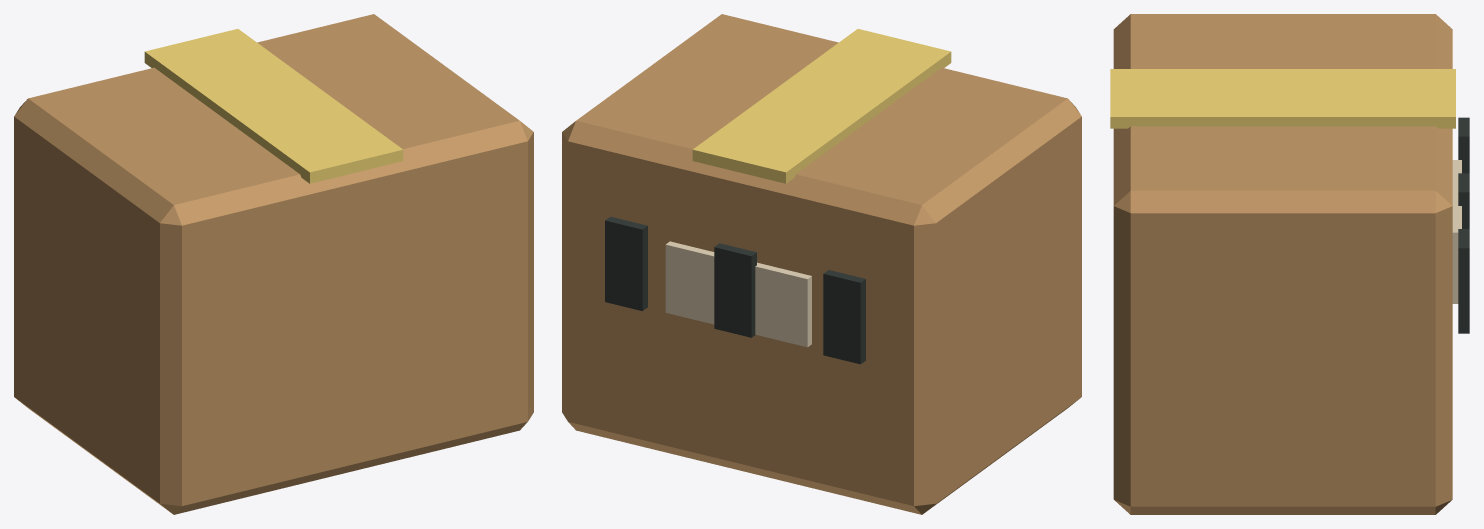
File: sm_cargo_package_vented.glb
3 views of the same model, side by side, from view 1: azimuth 30°, elevation 25°; view 2: azimuth 150°, elevation 25°; view 3: azimuth 270°, elevation 25° (orthographic). The views are drawn at different scales.
Visible parts, largest first — view 1: CargoBox, PackingTape; view 2: CargoBox, PackingTape, ShippingLabel, Vent, Vent.002, Vent.001; view 3: CargoBox, PackingTape, Vent.002, ShippingLabel, Vent, Vent.001.
Part boxes in pixels (left/top/right/bottom): CargoBox: left=14, top=14, right=533, bottom=514; PackingTape: left=144, top=29, right=403, bottom=183; CargoBox: left=562, top=14, right=1081, bottom=514; PackingTape: left=692, top=29, right=951, bottom=183; ShippingLabel: left=665, top=241, right=811, bottom=347; Vent: left=823, top=270, right=865, bottom=364; Vent.002: left=605, top=216, right=647, bottom=310; Vent.001: left=714, top=243, right=756, bottom=337; CargoBox: left=1113, top=14, right=1452, bottom=514; PackingTape: left=1110, top=69, right=1455, bottom=128; Vent.002: left=1458, top=229, right=1469, bottom=333; ShippingLabel: left=1452, top=160, right=1461, bottom=303; Vent: left=1458, top=117, right=1469, bottom=173; Vent.001: left=1458, top=173, right=1469, bottom=228.
Bounding box in the file's own units: 1.2 × 0.9775 × 0.954.
